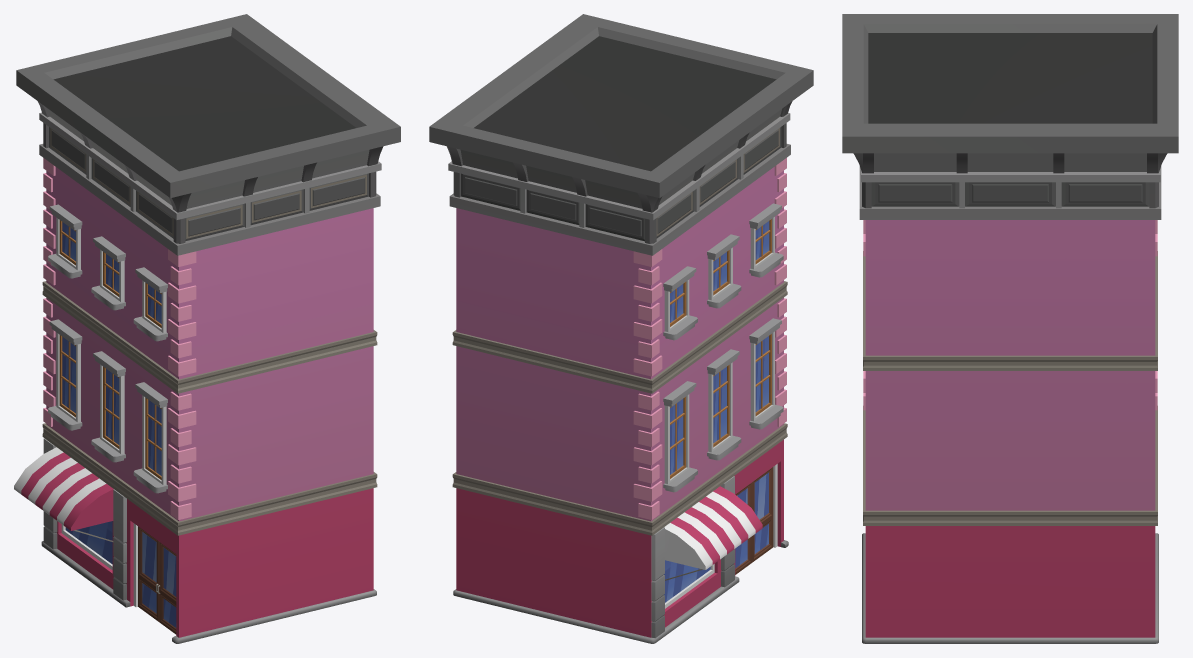
The model's file is Building_8_2_S.glb.
3 renders of one model, left to right at view 1: azimuth 30°, elevation 25°; view 2: azimuth 150°, elevation 25°; view 3: azimuth 270°, elevation 25°, orthographic. The views are drawn at different scales.
Visible parts, largest first — view 1: Building 8_2_S; view 2: Building 8_2_S; view 3: Building 8_2_S.
Part boxes in pixels (box(x1,y1,x2,y2)): Building 8_2_S: box(14, 14, 400, 643); Building 8_2_S: box(429, 14, 813, 643); Building 8_2_S: box(842, 14, 1178, 643).
Size of the model in its own units: 7.2 by 12.76 by 7.55.
Materials: 3 (3 with a texture image).
